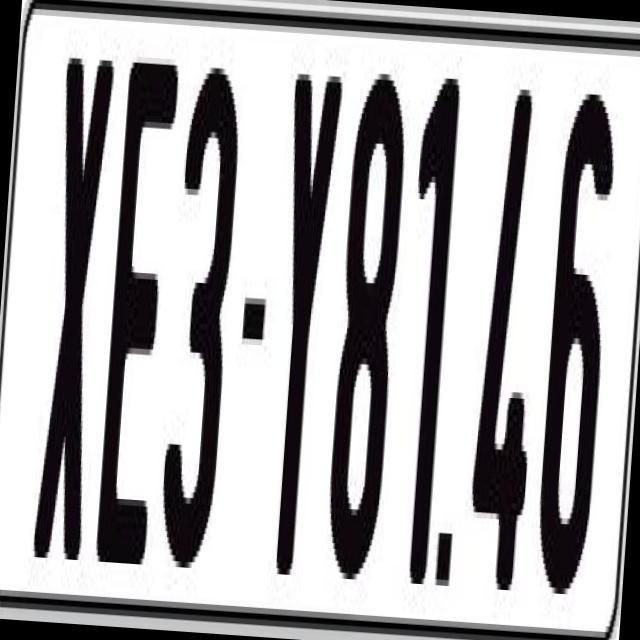1: (390, 59, 462, 566)
3: (152, 59, 248, 586)
4: (462, 82, 559, 597)
6: (532, 74, 628, 614)
8: (319, 60, 414, 604)
E: (90, 61, 180, 582)
X: (32, 39, 124, 554)
Y: (256, 67, 348, 570)
